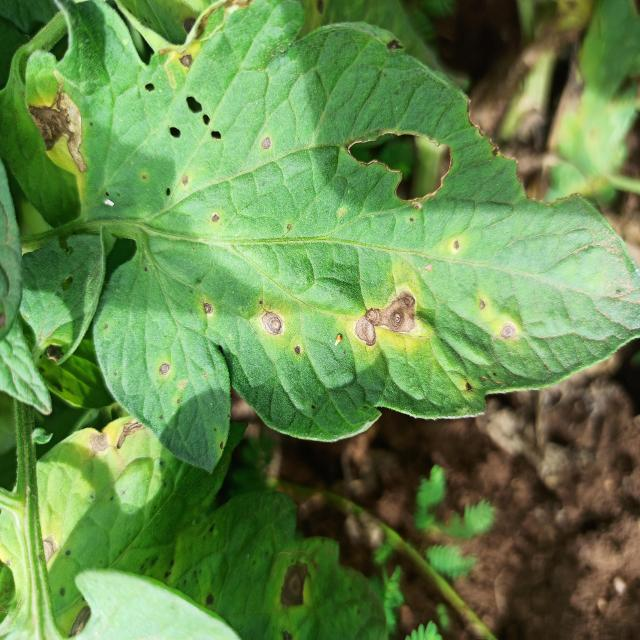Early Blight: (0, 168, 614, 636)
